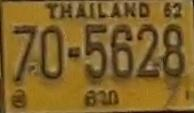0: (39, 24, 63, 78)
2: (136, 23, 158, 78)
5: (84, 23, 106, 81)
6: (110, 24, 132, 78)
7: (12, 24, 36, 81)
8: (161, 23, 184, 78)
TAK: (82, 85, 123, 109)
